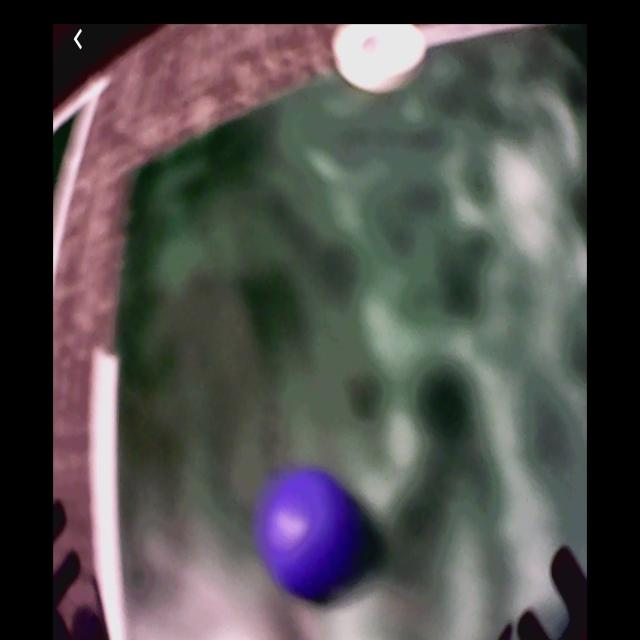ball: (260, 473, 354, 599)
